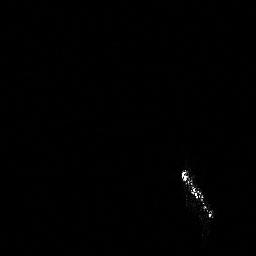ship: (181, 164, 215, 227)
